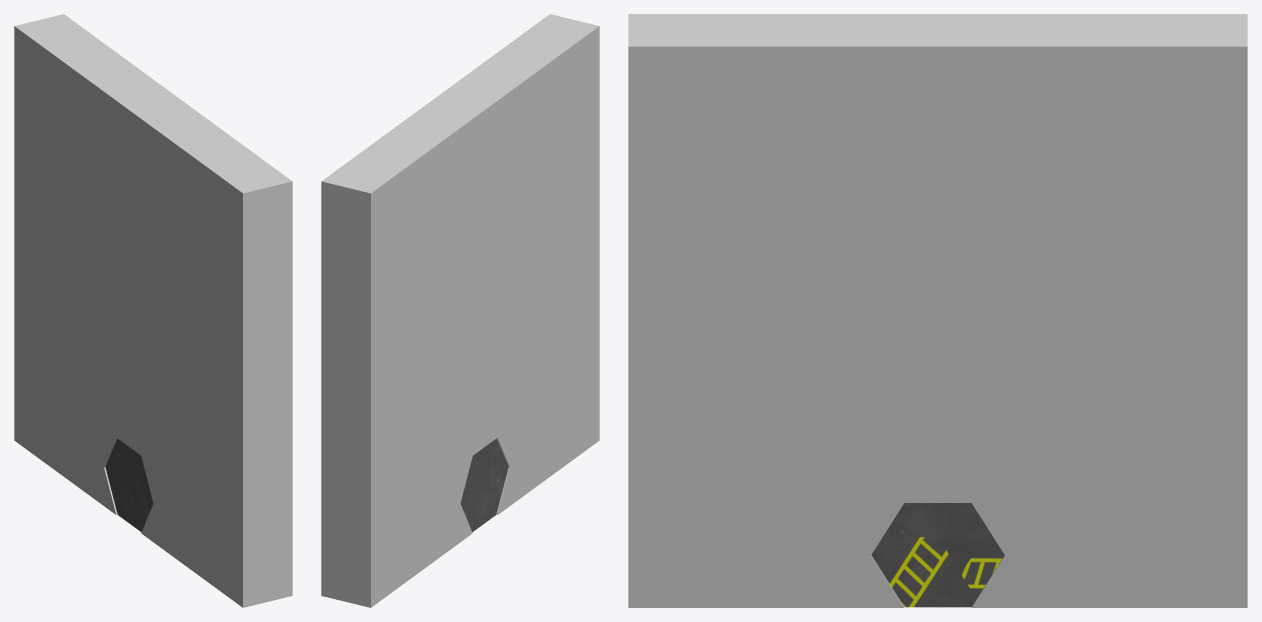
File: murPorte.fbx
The picture shows the model from 3 angles, left to right: view 1: azimuth 30°, elevation 25°; view 2: azimuth 150°, elevation 25°; view 3: azimuth 270°, elevation 25°; orthographic projection. The views are drawn at different scales.
Visible parts, largest first — view 1: Mur, Porte; view 2: Mur, Porte; view 3: Mur, Porte.
Boxes of the visible parts, left/top/right/bottom form: Mur: left=14, top=14, right=292, bottom=607; Porte: left=105, top=438, right=153, bottom=531; Mur: left=321, top=14, right=599, bottom=607; Porte: left=460, top=438, right=508, bottom=531; Mur: left=628, top=14, right=1247, bottom=607; Porte: left=871, top=503, right=1004, bottom=607.
Bounding box in the file's own units: 40 × 320 × 320.
1 material, 1 textured.
